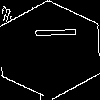I: (25, 25, 76, 41)
